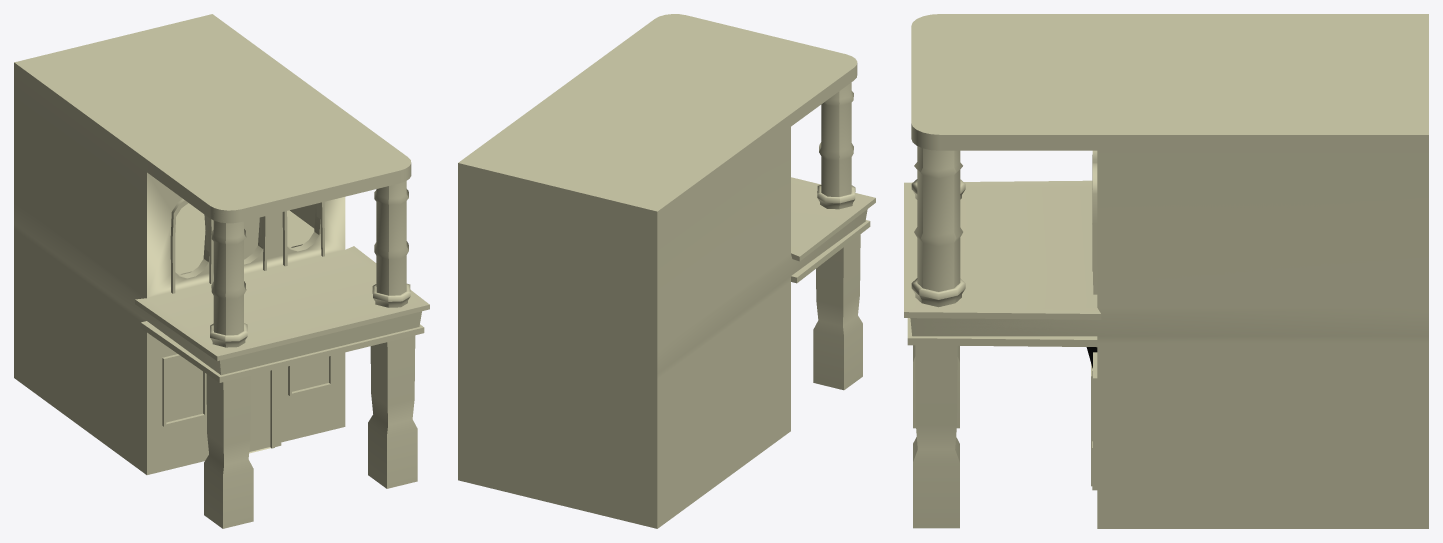
File: building01.fbx
3 renders of one model, left to right at view 1: azimuth 30°, elevation 25°; view 2: azimuth 150°, elevation 25°; view 3: azimuth 270°, elevation 25°, orthographic. The views are drawn at different scales.
Visible parts, largest first — view 1: building01; view 2: building01; view 3: building01.
Part boxes in pixels (x1,y1,x2,y2): building01: (14, 14, 429, 528); building01: (458, 14, 875, 528); building01: (904, 14, 1428, 528).
Size of the model in its own units: 5.67 by 7.85 by 9.43.
